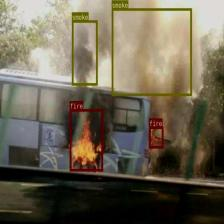fire: (70, 109, 103, 171), (149, 126, 163, 148)
smoke: (111, 8, 192, 96), (72, 20, 97, 85)
